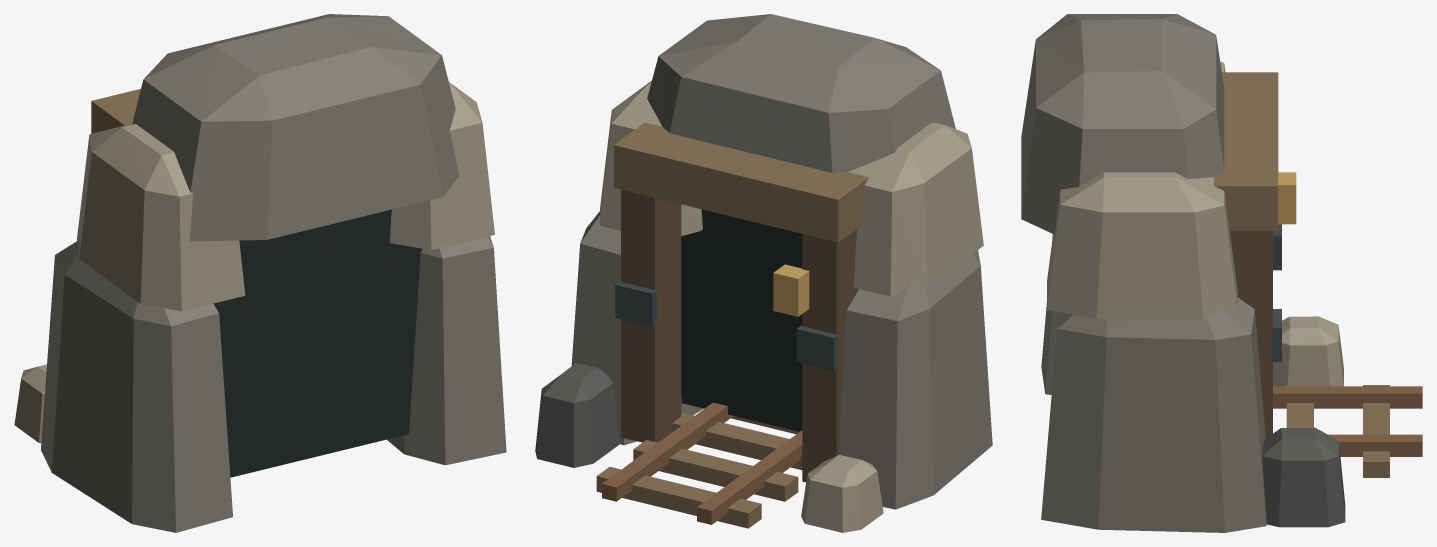
The model's file is Mine_Entrance.fbx.
The picture shows the model from 3 angles, left to right: view 1: azimuth 30°, elevation 25°; view 2: azimuth 150°, elevation 25°; view 3: azimuth 270°, elevation 25°; orthographic projection. The views are drawn at different scales.
Parts seen in each view (by area): view 1: Mine_Entrance; view 2: Mine_Entrance; view 3: Mine_Entrance.
Boxes of the visible parts, x1,y1,x2,y2 form: Mine_Entrance: (14,14,506,532); Mine_Entrance: (535,14,992,532); Mine_Entrance: (1021,14,1422,532).
Bounding box in the file's own units: 1.57 × 1.6 × 1.47.
